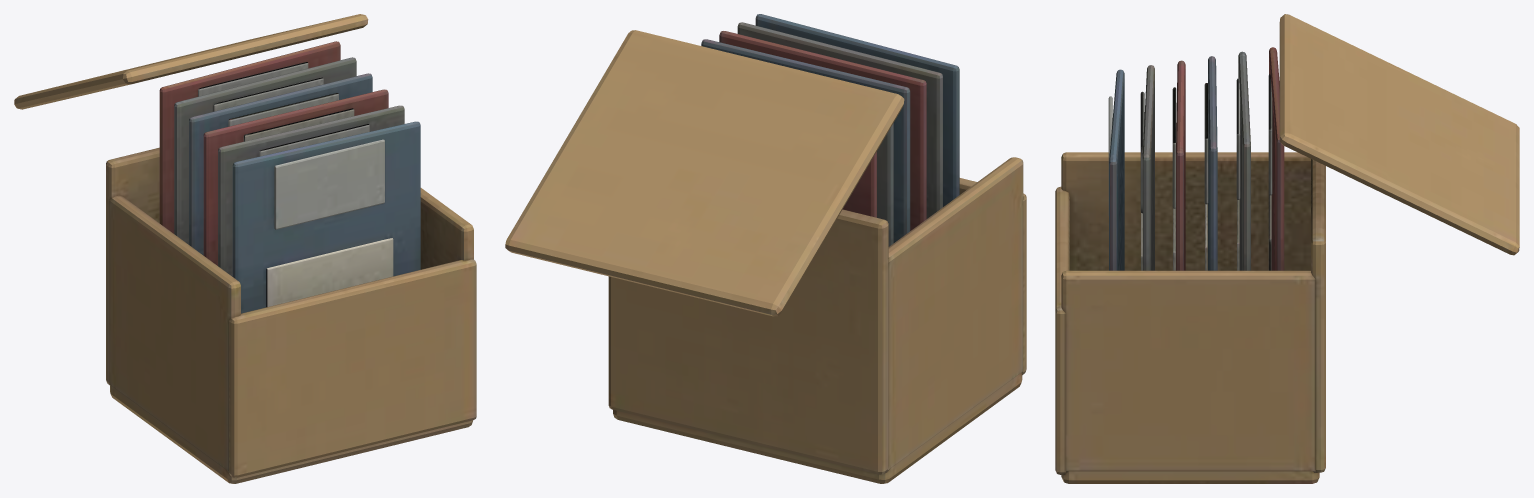
File: dressing-floppy-box.glb
3 renders of one model, left to right at view 1: azimuth 30°, elevation 25°; view 2: azimuth 150°, elevation 25°; view 3: azimuth 270°, elevation 25°, orthographic. The views are drawn at different scales.
Visible parts, largest first — view 1: case-baked; view 2: case-baked; view 3: case-baked.
Boxes of the visible parts, x1,y1,x2,y2 form: case-baked: (14, 14, 476, 483); case-baked: (505, 14, 1026, 483); case-baked: (1055, 14, 1519, 483).
Size of the model in its own units: 0.12 by 0.1573 by 0.1888.
1 material, 1 textured.
